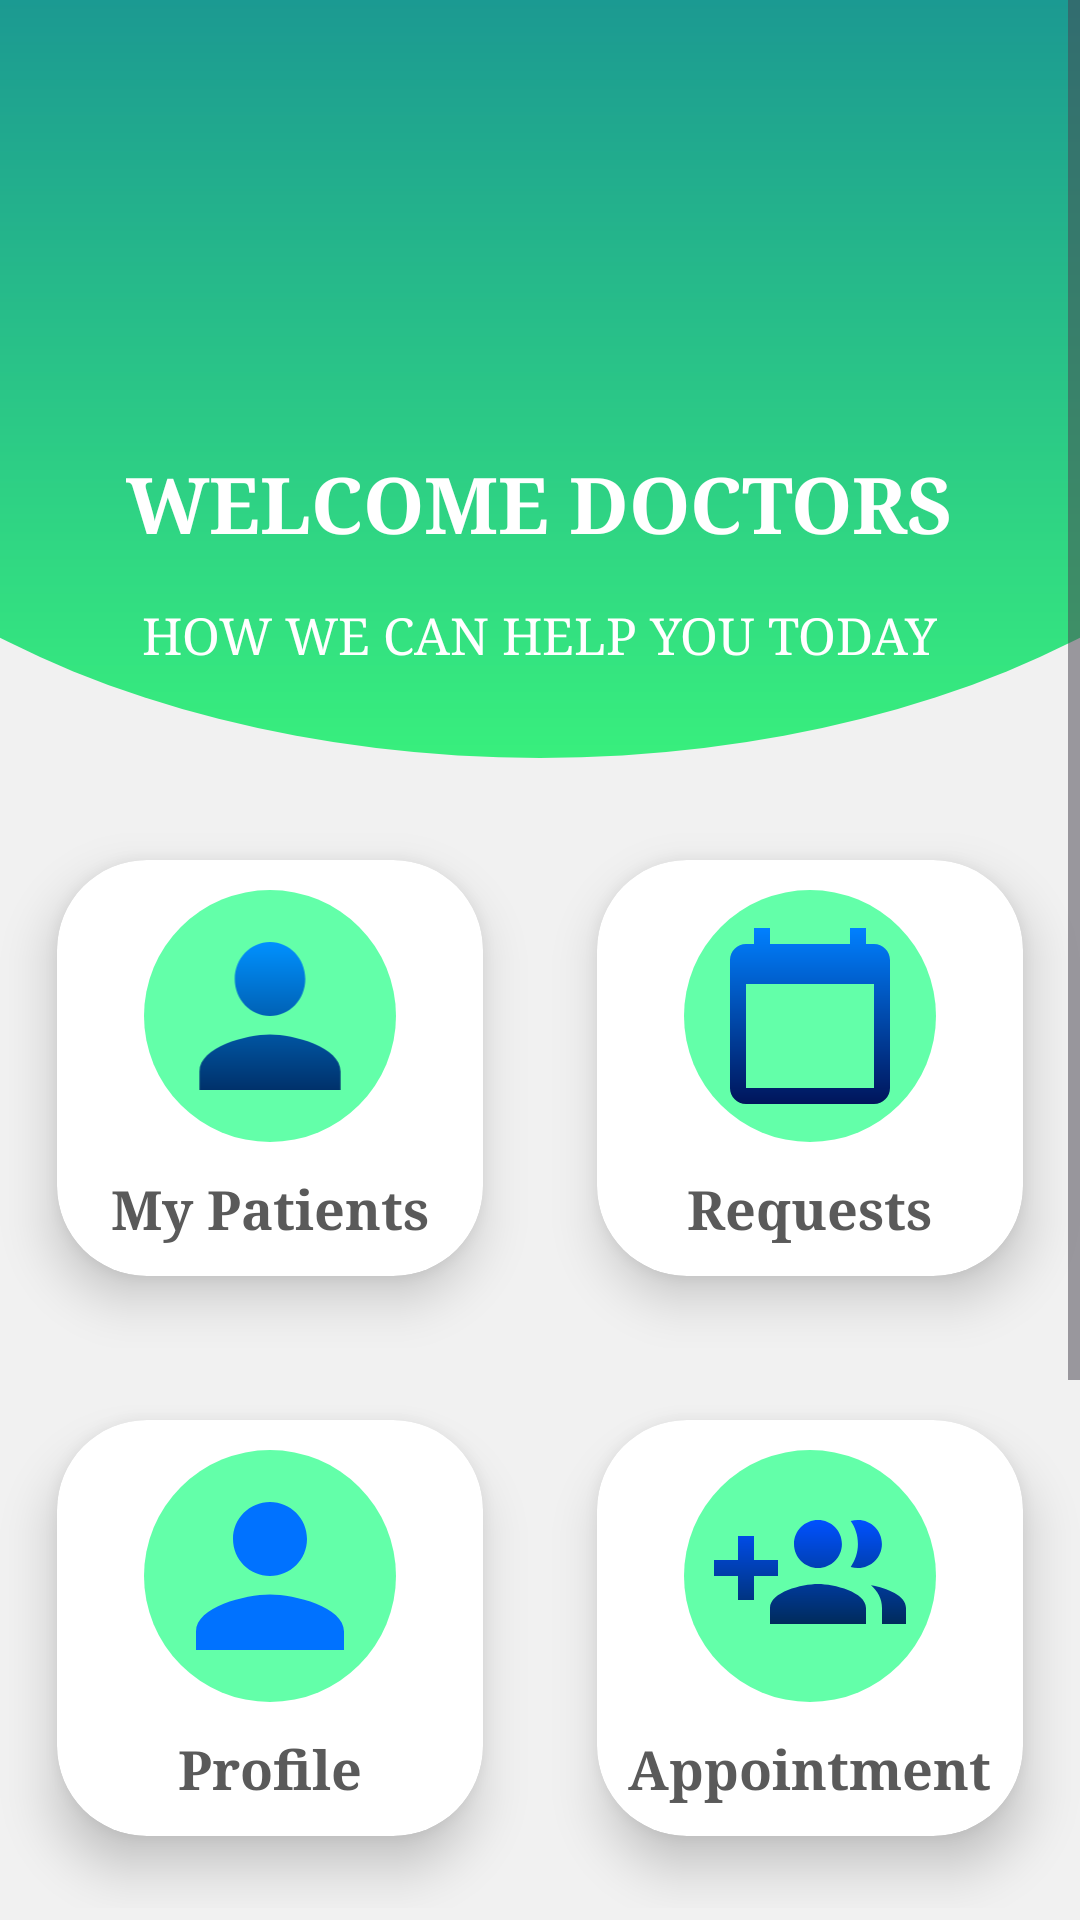

Icon bounding boxes for this 1080×1920 phone screenshot, format (x1, y1, x2, y2):
person: (144, 890, 396, 1142), (144, 1450, 396, 1702)
